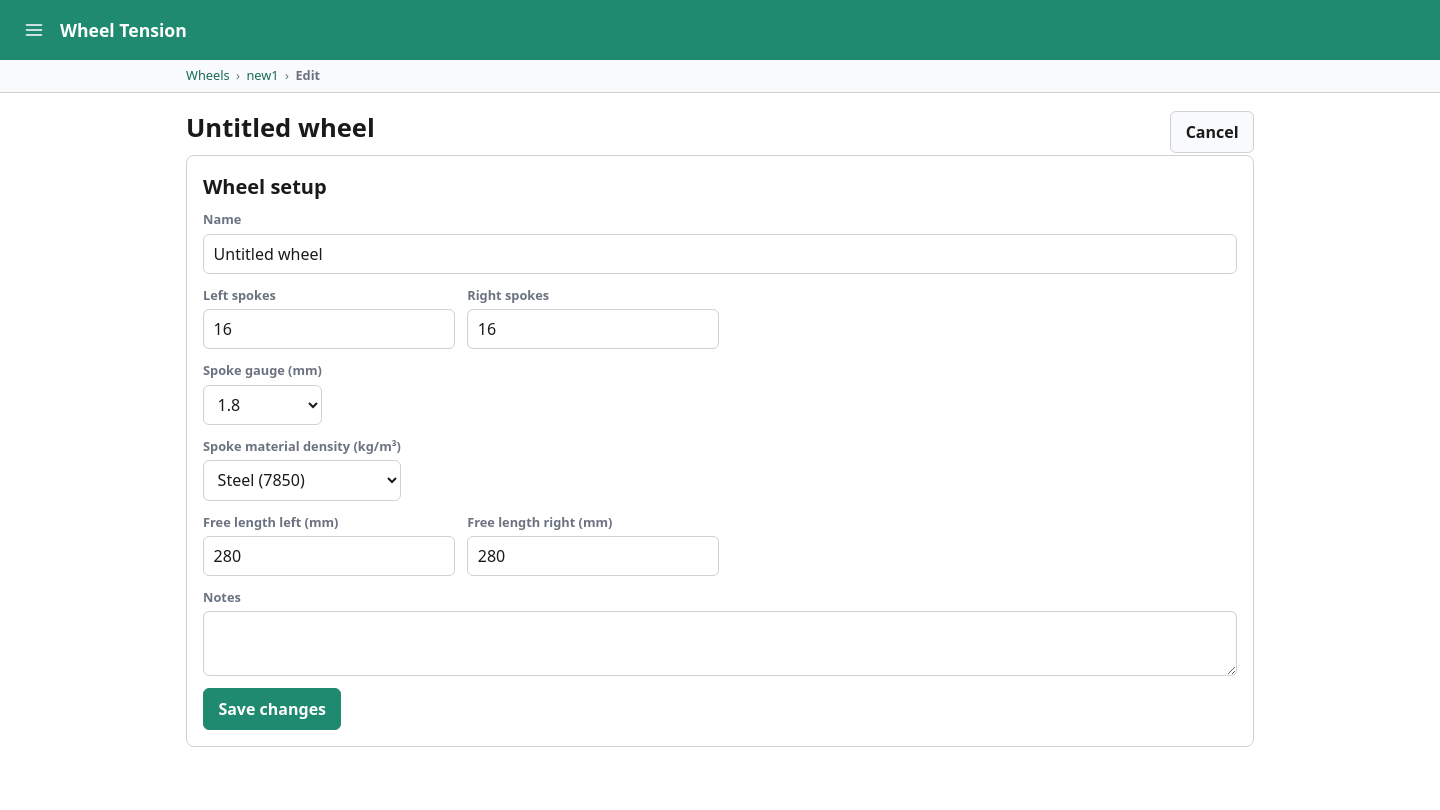
Test: WheelEditPage (new wheel) › does not create a wheel when the new edit is cancelled
Step 1. Click the button "Cancel" → (1212, 132), box [1170,111,1254,153]
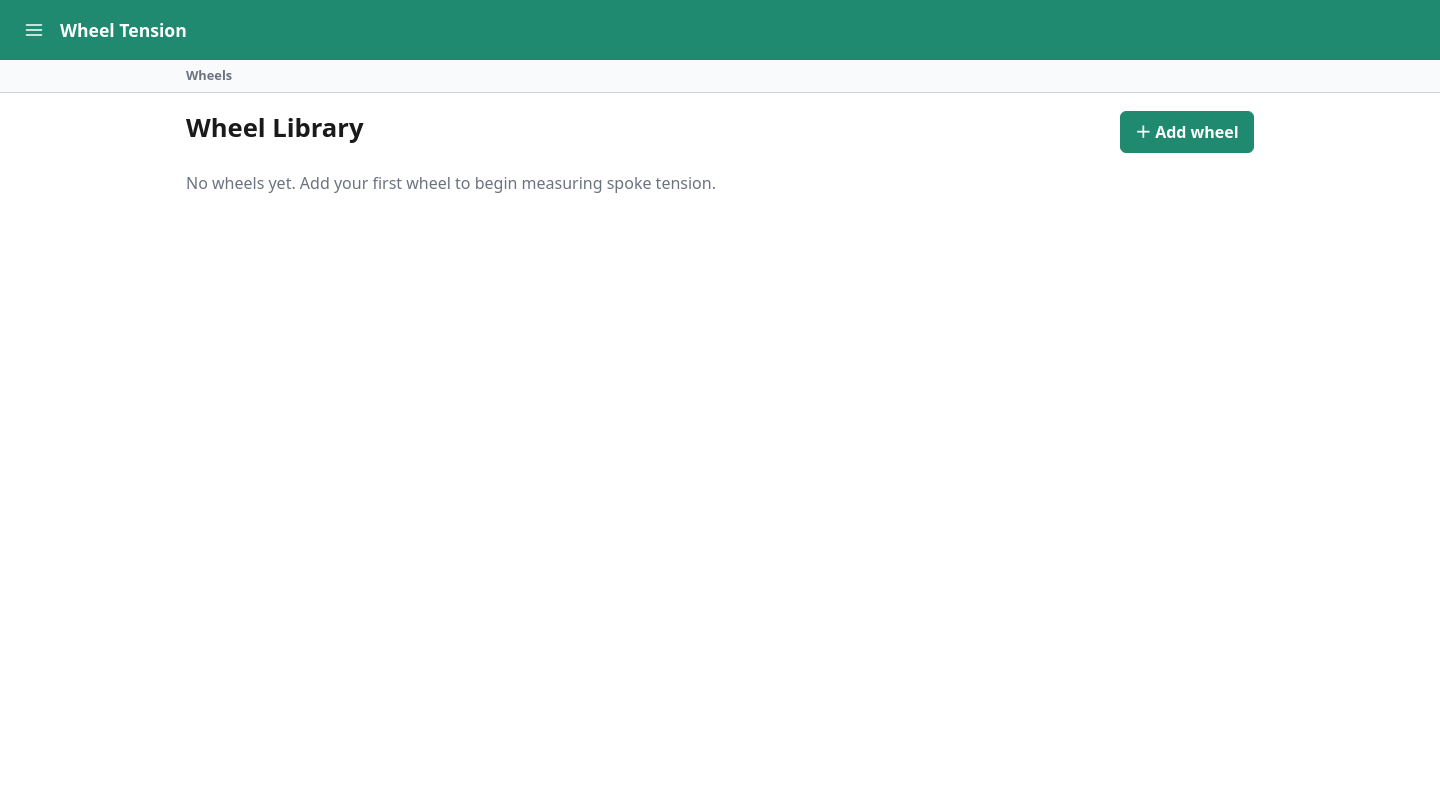
Expected: the heading "Wheel Library" is shown, [186,109,364,147]
